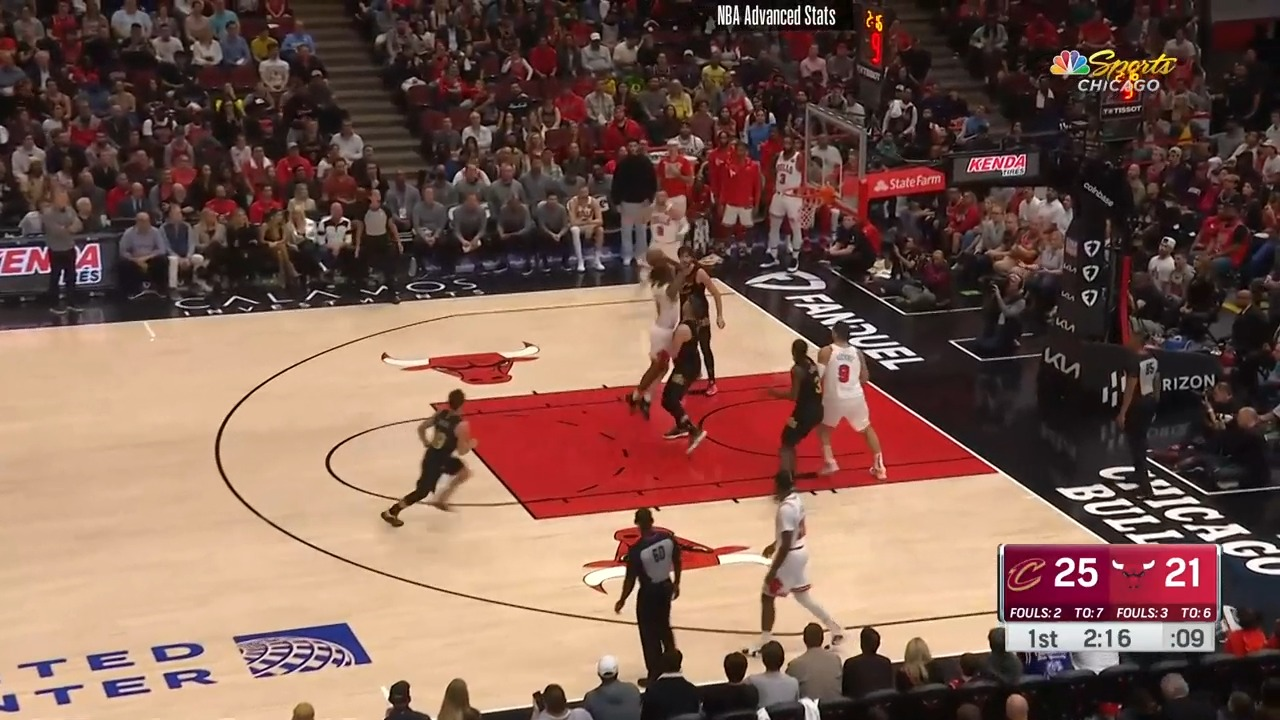net: (777, 182, 847, 230)
player: (748, 466, 843, 650), (372, 390, 481, 534), (817, 318, 890, 486), (631, 250, 688, 419), (660, 292, 719, 451), (766, 338, 823, 490), (673, 245, 726, 397)
referee: (606, 501, 688, 676), (344, 186, 406, 309), (1117, 340, 1163, 502)
